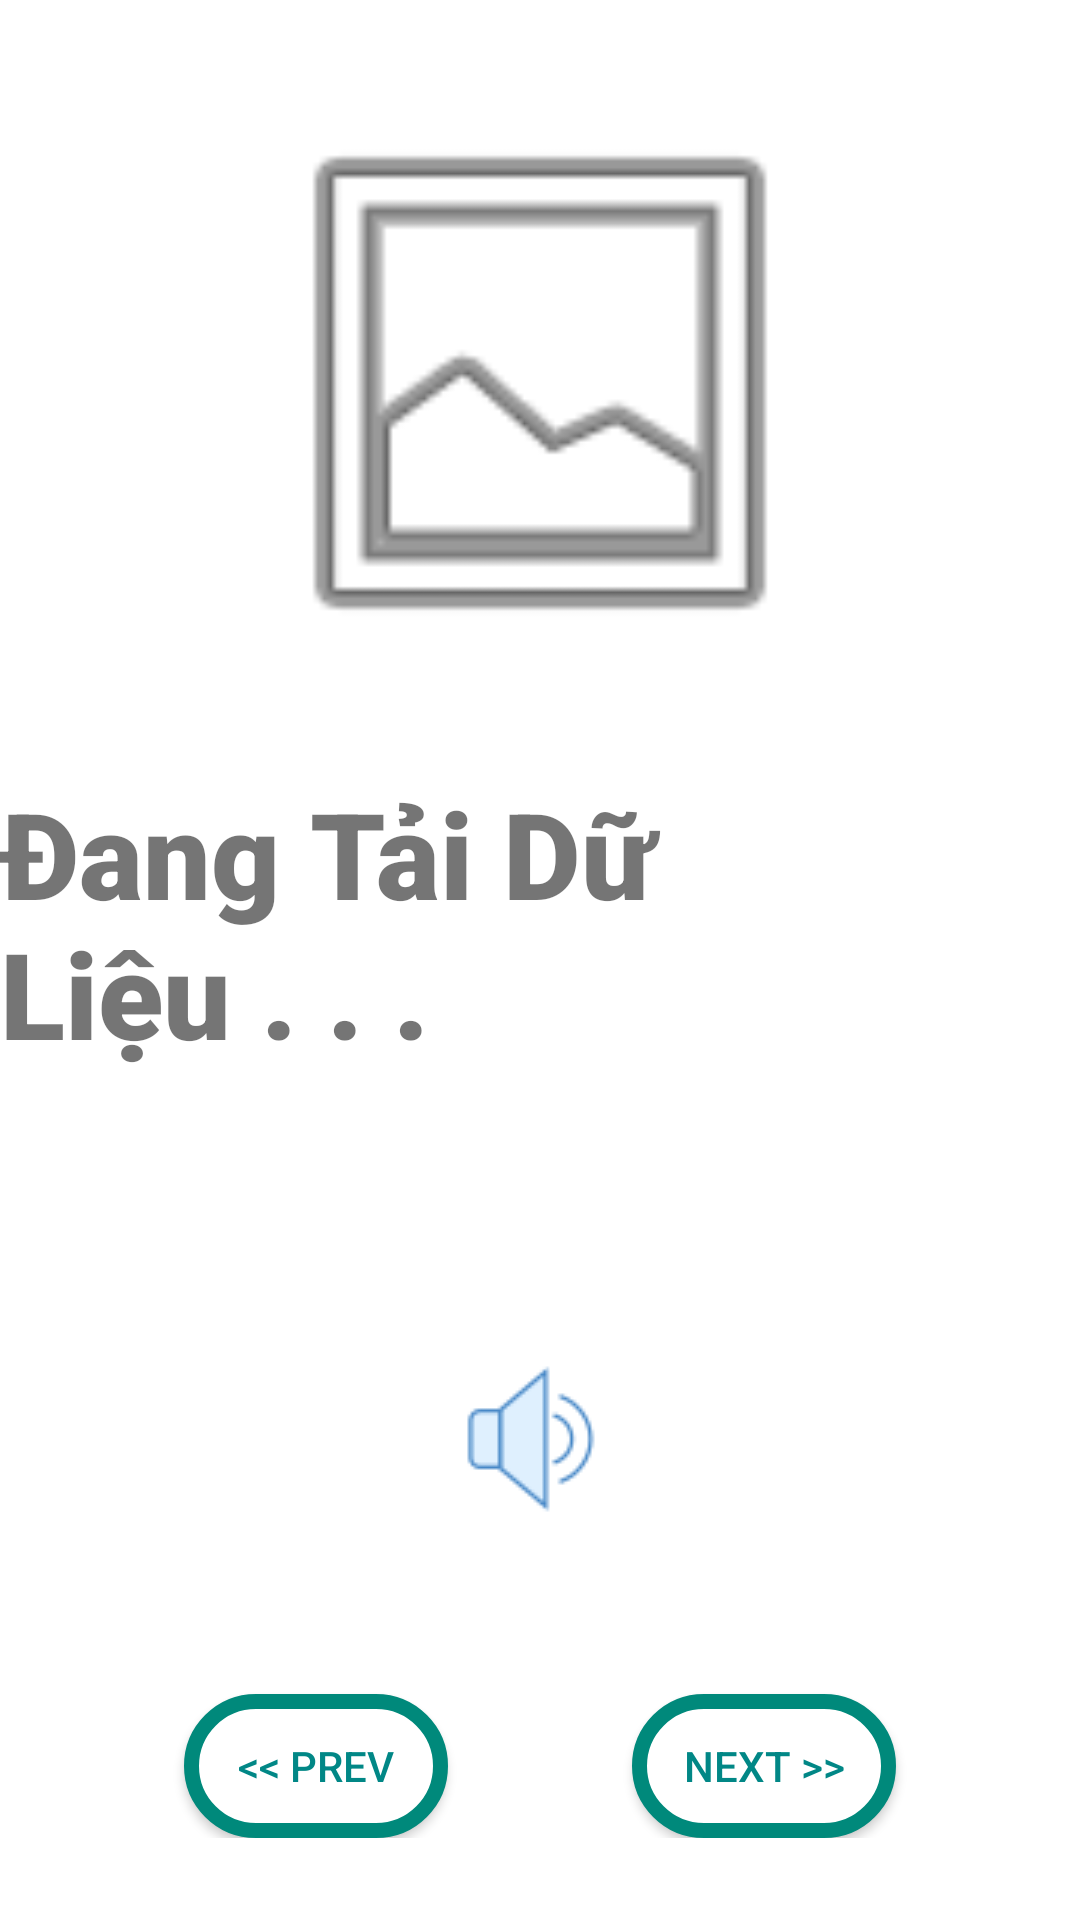

Point at icon controls on the screen. Image size 1080x1920, points as point (x, y).
voice: point (531, 1439)
